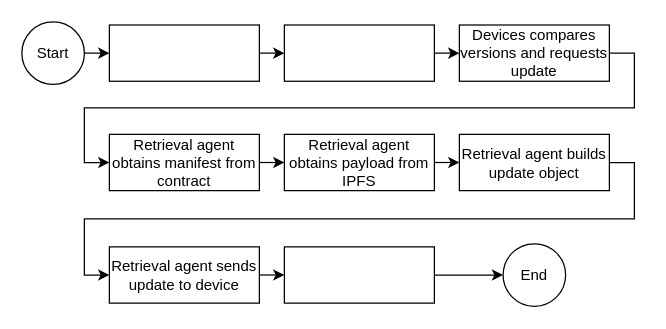
Some shapes in this 666 by 329 pixel diagram are drawn without their labels. Each missing label, with the centre of its shape:
"Device sends DeviceID" goes at (183,52).
"Device verifies update and decides to install it" goes at (358,274).
"Retrieval agent obtains version from contract" goes at (358,52).
